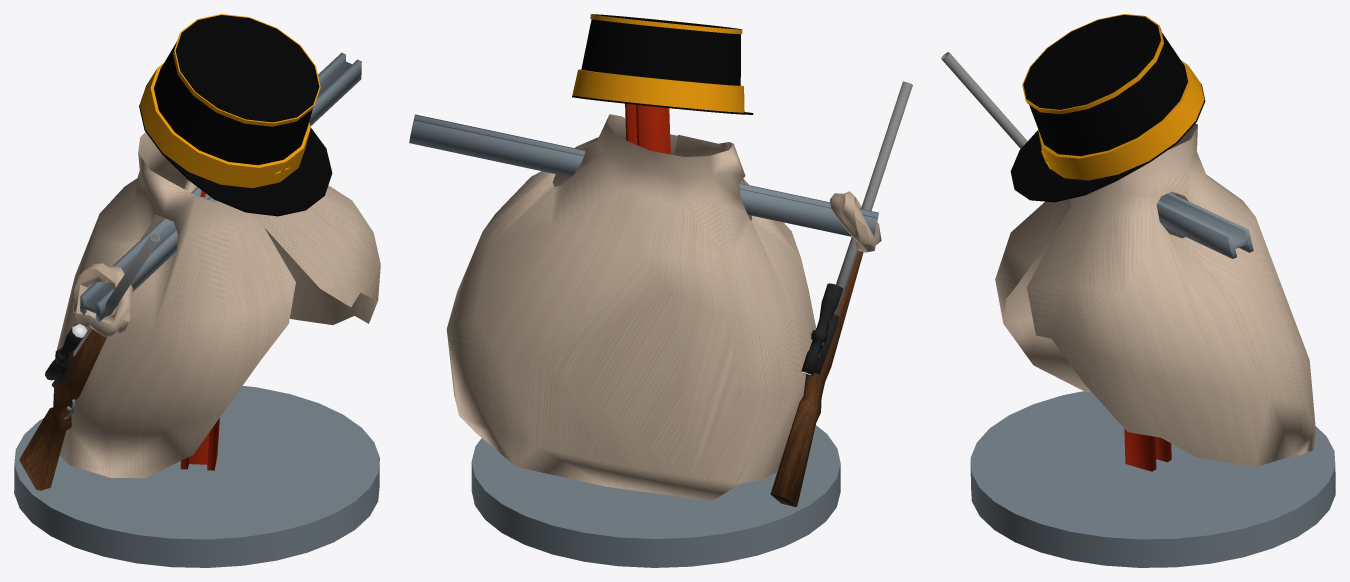
File: Dummy 1.fbx
3 views of the same model, side by side, from view 1: azimuth 30°, elevation 25°; view 2: azimuth 150°, elevation 25°; view 3: azimuth 270°, elevation 25° (orthographic).
Parts seen in each view (by area): view 1: 円柱.003; view 2: 円柱.003; view 3: 円柱.003.
Boxes of the visible parts, box(x1,y1,x2,y2) form: 円柱.003: box(14, 14, 380, 567); 円柱.003: box(409, 14, 912, 567); 円柱.003: box(941, 14, 1335, 567).
Bounding box in the file's own units: 56.81 × 68.06 × 51.94.
